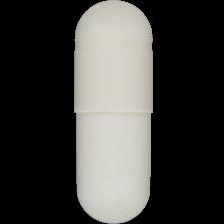10544-082: (0, 0, 224, 224)
